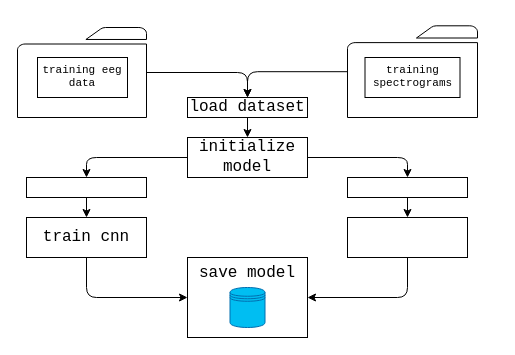
Some shapes in this 515 by 355 pixel diagram are drawn without their labels. The shapes that lost their labels are listed below. From the top down, each one's centre as x and y in pixels, then its label:
[86,187]: cnn
[407,187]: transformer
[407,237]: train transformer
